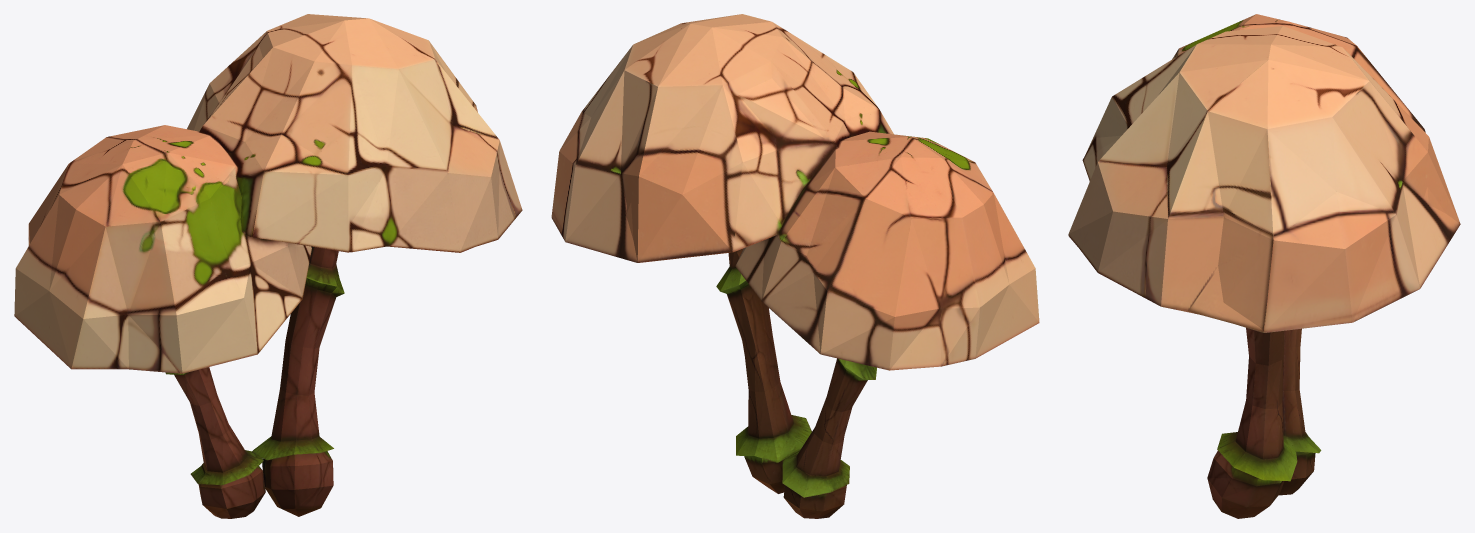
The model's file is mushroom.glb.
The picture shows the model from 3 angles, left to right: view 1: azimuth 30°, elevation 25°; view 2: azimuth 150°, elevation 25°; view 3: azimuth 270°, elevation 25°; orthographic projection. The views are drawn at different scales.
Size of the model in its own units: 0.0996 by 0.1 by 0.0703.
Materials: 1 (1 with a texture image).
